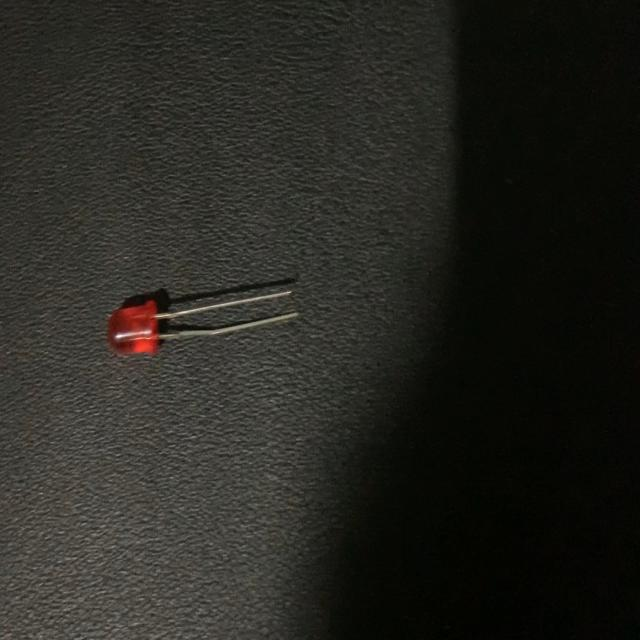LED: (108, 287, 300, 354)
